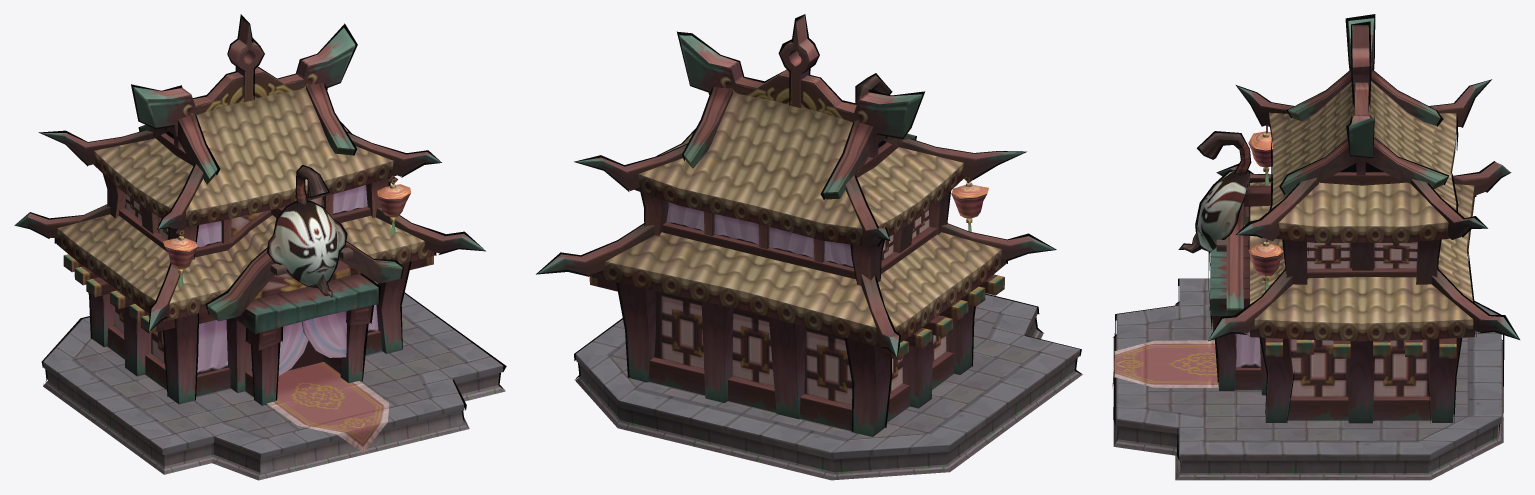
Rendered from house2.FBX.
3 renders of one model, left to right at view 1: azimuth 30°, elevation 25°; view 2: azimuth 150°, elevation 25°; view 3: azimuth 270°, elevation 25°, orthographic. The views are drawn at different scales.
Visible parts, largest first — view 1: jc_xiban_01, jc_xiban_01_ol; view 2: jc_xiban_01, jc_xiban_01_ol; view 3: jc_xiban_01, jc_xiban_01_ol.
Boxes of the visible parts, left/top/right/bottom form: jc_xiban_01: left=15, top=18, right=504, bottom=480; jc_xiban_01_ol: left=14, top=14, right=506, bottom=421; jc_xiban_01: left=538, top=15, right=1081, bottom=480; jc_xiban_01_ol: left=536, top=14, right=1082, bottom=432; jc_xiban_01: left=1112, top=18, right=1518, bottom=480; jc_xiban_01_ol: left=1113, top=14, right=1519, bottom=470.
Bounding box in the file's own units: 175 × 171 × 170.
Materials: 2 (1 with a texture image).
